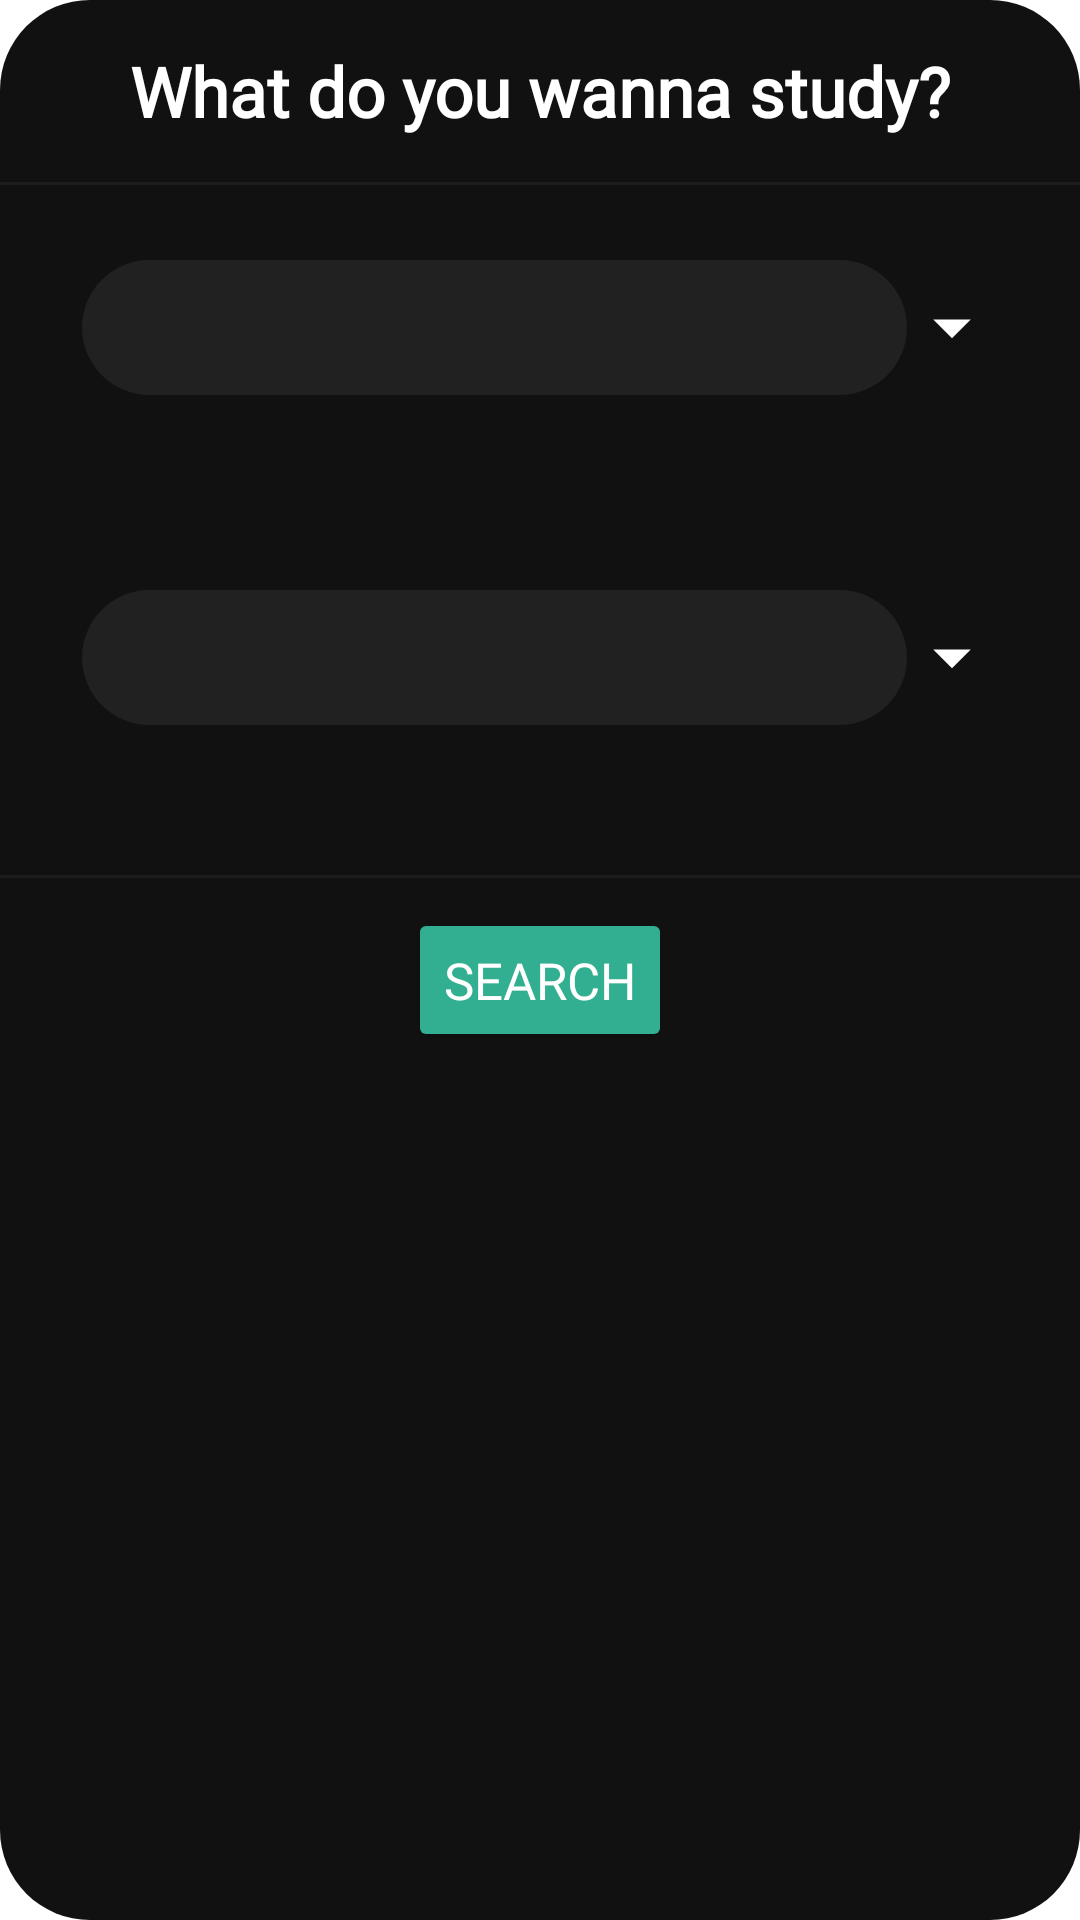

Icon bounding boxes for this 1080 x 1920 phone screenshot, format (x1, y1, x2, y2):
arrow drop down: (933, 319, 971, 338), (933, 649, 971, 668)
